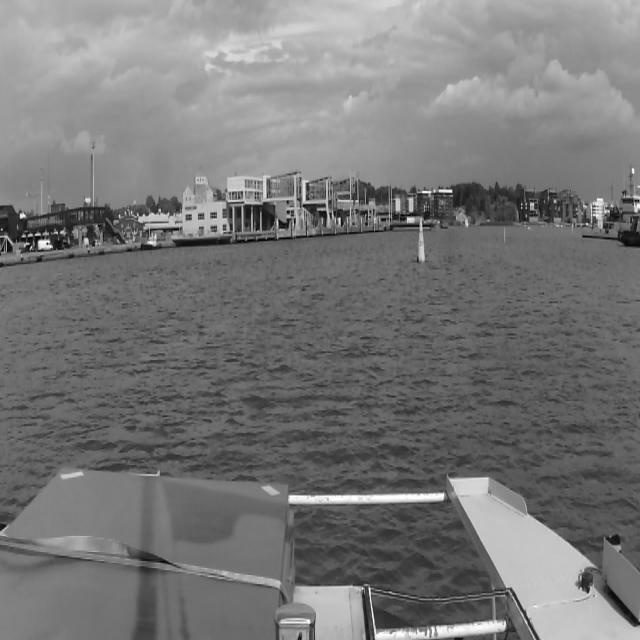buoy: (414, 216, 428, 265), (502, 226, 506, 242)
ship: (577, 160, 640, 251), (140, 231, 162, 252), (459, 215, 469, 229)
